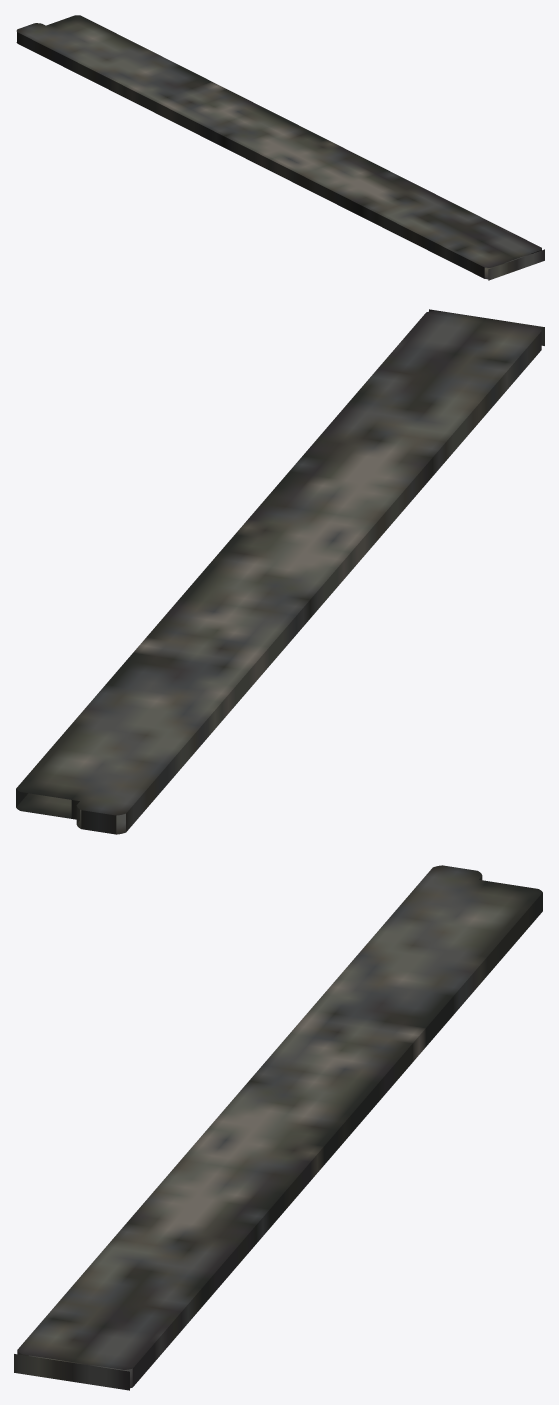
The model's file is SM_EC_Fence_Part_21.fbx.
The picture shows the model from 3 angles, top to bottom: view 1: azimuth 30°, elevation 25°; view 2: azimuth 150°, elevation 25°; view 3: azimuth 330°, elevation 25°; orthographic projection. The views are drawn at different scales.
Parts seen in each view (by area): view 1: SM_EC_Fence_Part_21; view 2: SM_EC_Fence_Part_21; view 3: SM_EC_Fence_Part_21.
Boxes of the visible parts, bbox=[...] form: SM_EC_Fence_Part_21: bbox=[16, 15, 544, 280]; SM_EC_Fence_Part_21: bbox=[16, 309, 544, 834]; SM_EC_Fence_Part_21: bbox=[14, 865, 542, 1390].
Size of the model in its own units: 0.2902 by 1.06 by 0.0181.
